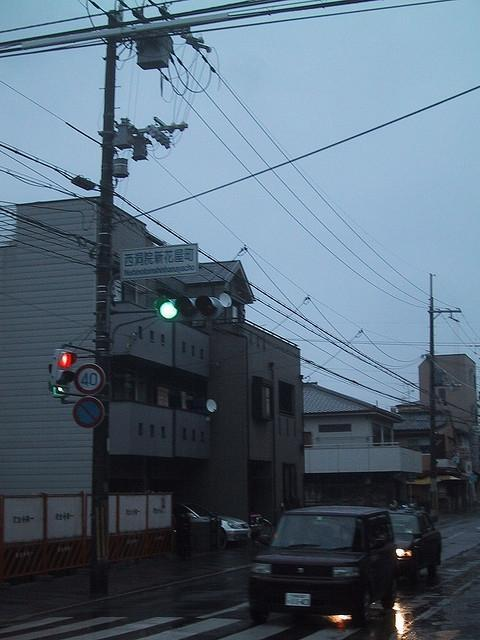bicycle: (250, 513, 274, 540)
car: (246, 506, 404, 631), (388, 510, 442, 580), (172, 502, 251, 549)
